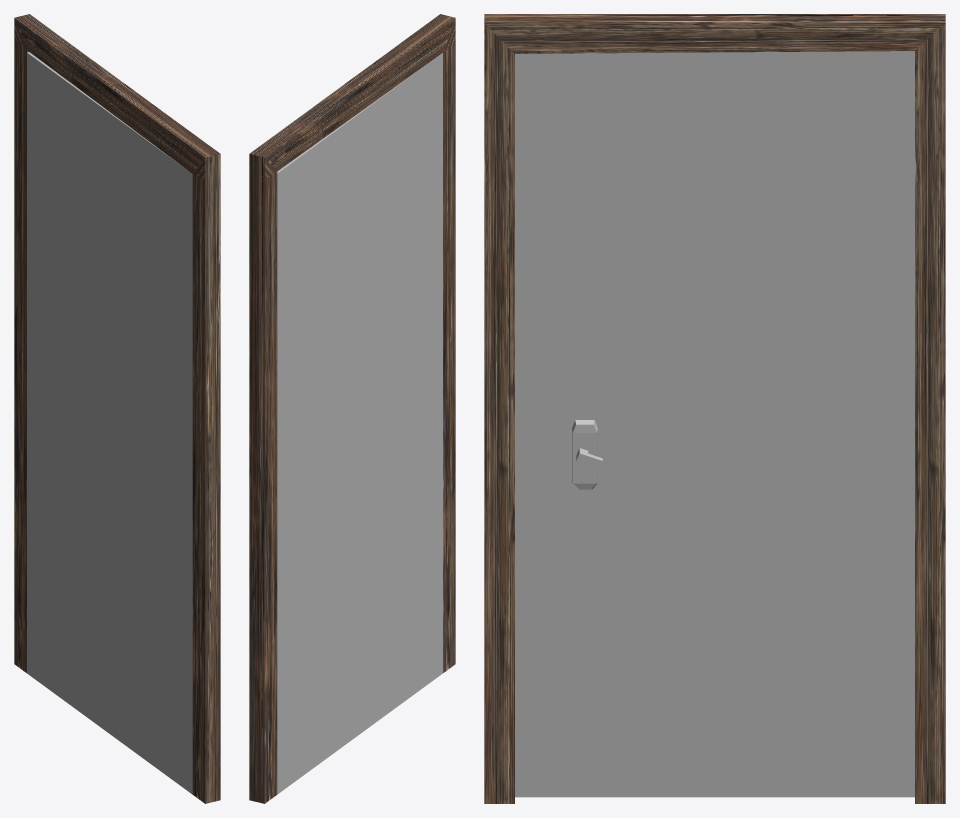
The model's file is portasemnada.fbx.
3 renders of one model, left to right at view 1: azimuth 30°, elevation 25°; view 2: azimuth 150°, elevation 25°; view 3: azimuth 270°, elevation 25°, orthographic. The views are drawn at different scales.
Visible parts, largest first — view 1: Cube.003; view 2: Cube.003; view 3: Cube.003.
Part boxes in pixels (x1=…): Cube.003: x1=14, y1=14, x2=220, y2=803; Cube.003: x1=249, y1=14, x2=455, y2=803; Cube.003: x1=484, y1=14, x2=945, y2=803.
Size of the model in its own units: 8.59 by 280 by 150.
